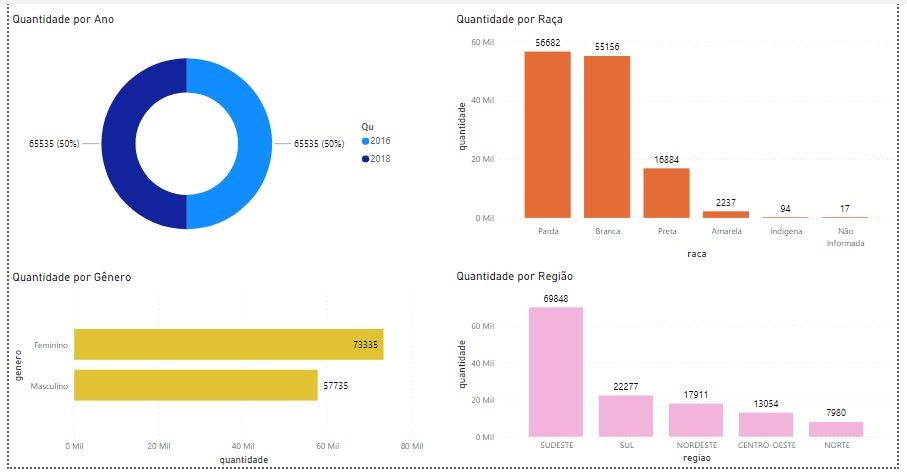

The dashboard page shown, as its layout file describes it:
{"tool":"powerbi","page":{"name":"Página 1","canvas":[1280,720],"ordinal":0},"visuals":[{"type":"donutChart","title":"Quantidade por Ano","fields":{"Y":["Sum(vagas_ano.quantidade)"],"Category":["vagas_ano.ano"]},"box":[0,63.8,564.4,361.2],"z":0},{"type":"clusteredBarChart","title":"Quantidade por Gênero","fields":{"Category":["vagas_genero.genero"],"Y":["Sum(vagas_genero.quantidade)"]},"box":[0,435.1,606.4,285.6],"z":1000},{"type":"clusteredColumnChart","title":"Quantidade por Raça","fields":{"Y":["Sum(vagas_raca.quantidade)"],"Category":["vagas_raca.raca"]},"box":[640,63.8,640,361.2],"z":2000},{"type":"clusteredColumnChart","title":"Quantidade por Região","fields":{"Y":["Sum(vagas_regiao.quantidade)"],"Category":["vagas_regiao.regiao"]},"box":[640,435,640,285],"z":3000}]}

Visuals, with their boxes on the page's 1280x720 design canvas (x1, y1, x2, y2). These are canvas units, not pixel positions in the 907x472 screenshot, which may show the page scaled, cropped or inside an application window:
"Quantidade por Ano" donutChart: [0, 64, 564, 425]
"Quantidade por Gênero" clusteredBarChart: [0, 435, 606, 721]
"Quantidade por Raça" clusteredColumnChart: [640, 64, 1280, 425]
"Quantidade por Região" clusteredColumnChart: [640, 435, 1280, 720]
